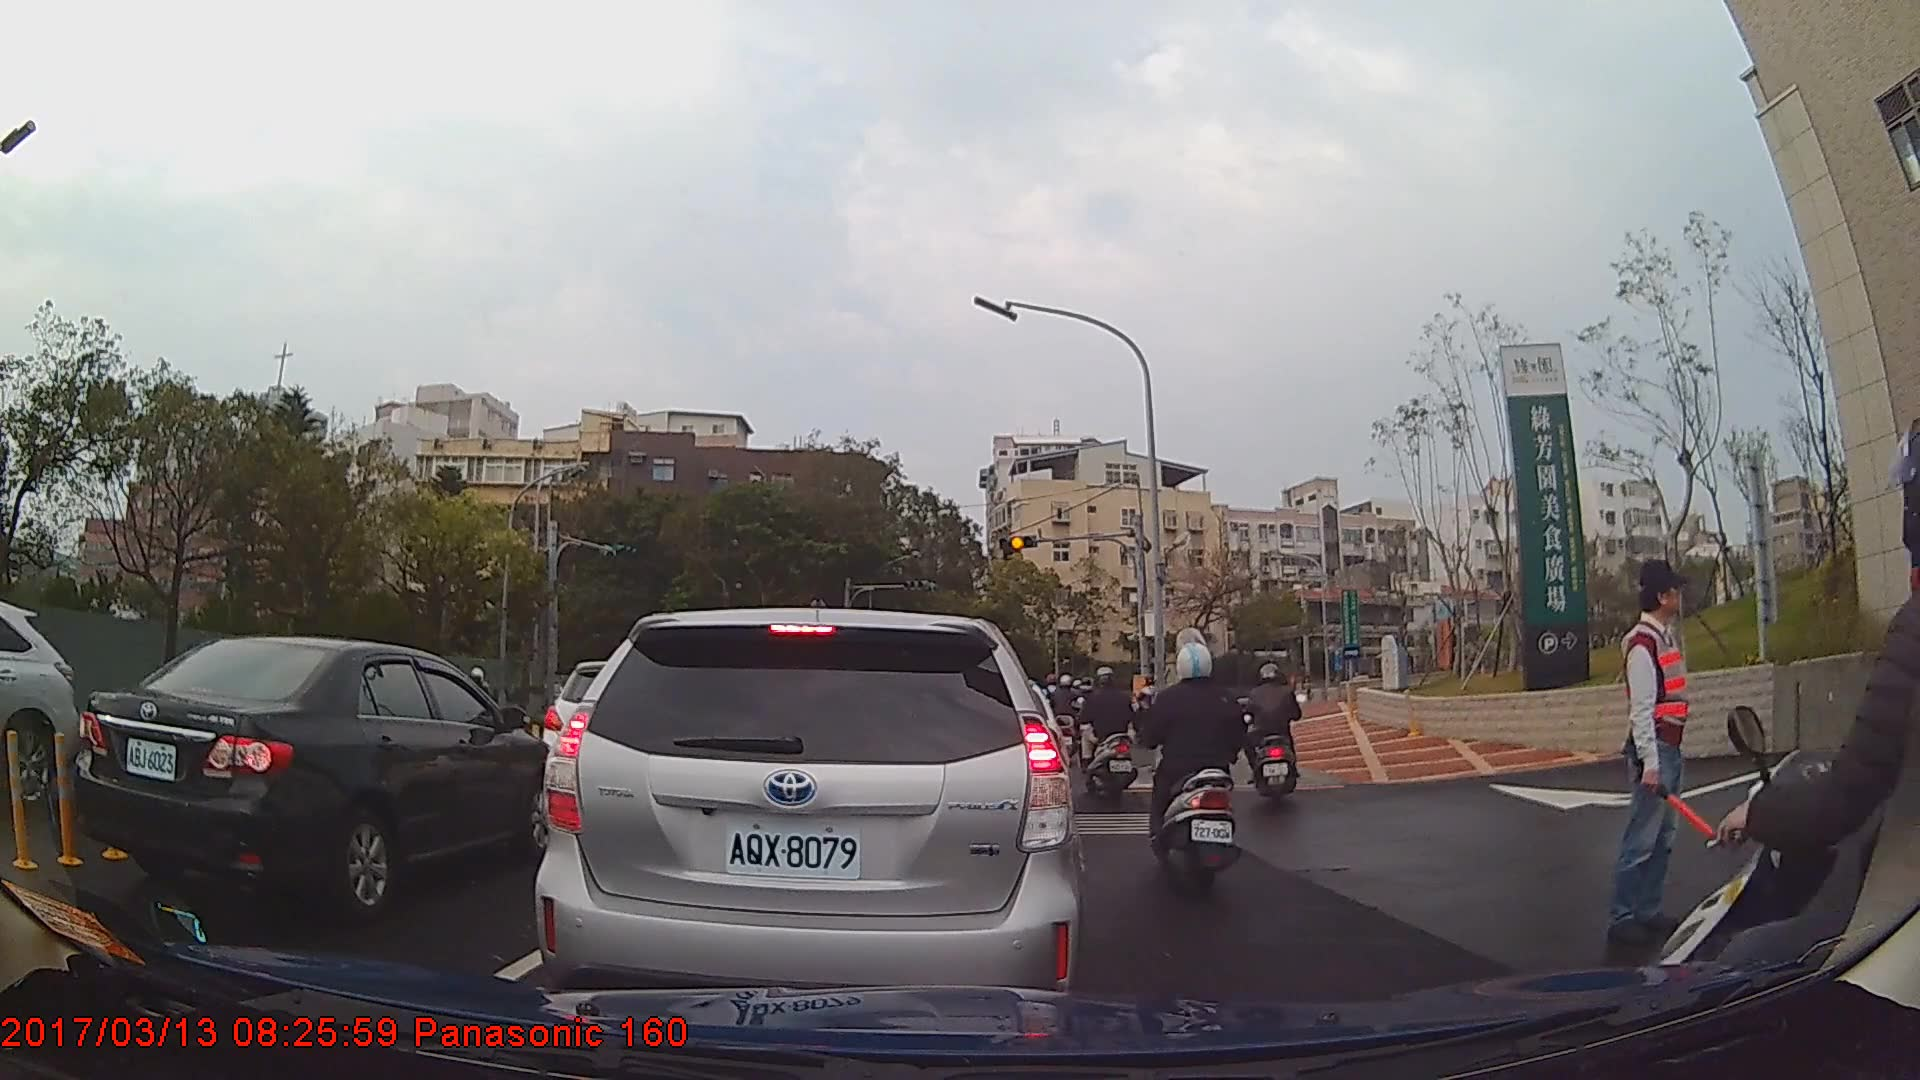pedestrian: (1612, 558, 1692, 944)
rider: (1651, 414, 1920, 1080), (1144, 638, 1258, 907), (1234, 662, 1303, 800), (1084, 664, 1142, 807), (1052, 675, 1086, 765)
vehicle: (536, 605, 1081, 1041), (72, 633, 561, 919), (0, 590, 81, 806)
